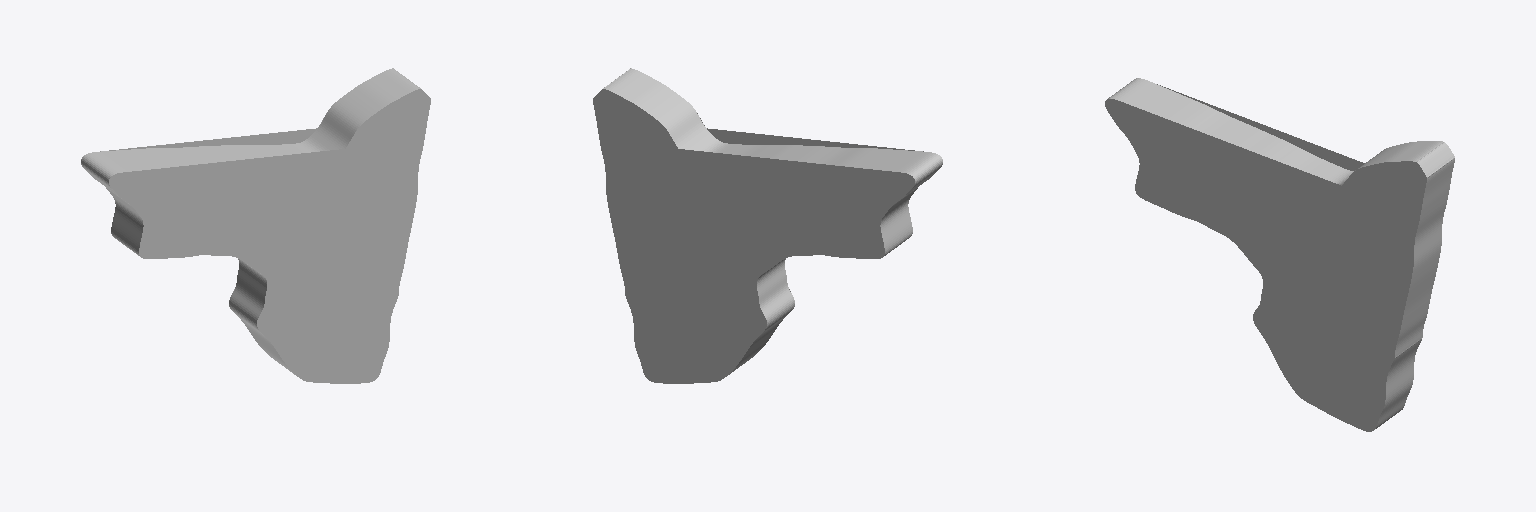
3 renders of one model, left to right at view 1: azimuth 30°, elevation 25°; view 2: azimuth 150°, elevation 25°; view 3: azimuth 330°, elevation 25°, orthographic.
Visible parts, largest first — view 1: 平面; view 2: 平面; view 3: 平面.
Part boxes in pixels (x1,y1,x2,y2): 平面: (81,68,430,383); 平面: (593,68,942,383); 平面: (1105,78,1454,431).
Bounding box in the file's own units: 1.33 × 1.11 × 0.2.